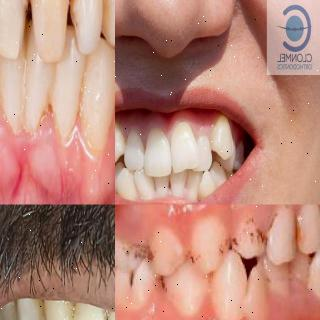Gum Swelling: (21, 115, 115, 184), (0, 108, 21, 160)
cavities: (120, 267, 143, 295)
maligned: (210, 245, 247, 320), (244, 259, 273, 320), (232, 214, 264, 260), (265, 253, 294, 298), (171, 124, 199, 170), (290, 244, 316, 282), (190, 132, 214, 170), (308, 236, 320, 311), (207, 119, 232, 150), (134, 166, 152, 202), (184, 165, 203, 195), (117, 168, 136, 198), (195, 172, 215, 196), (115, 115, 125, 161)
stains: (262, 208, 301, 258), (239, 223, 267, 248), (123, 244, 152, 261), (218, 233, 236, 255), (33, 296, 48, 320), (63, 301, 79, 320), (184, 248, 200, 264), (156, 272, 172, 288), (103, 309, 111, 320)
